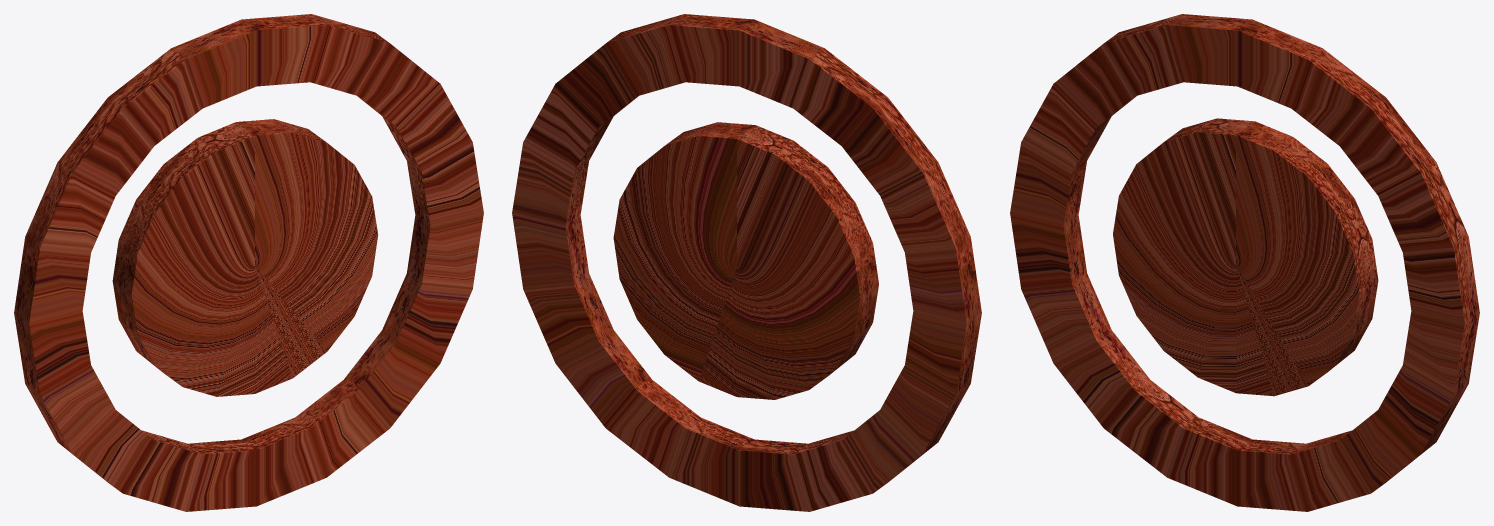
The model's file is wheelHub.fbx.
3 renders of one model, left to right at view 1: azimuth 30°, elevation 25°; view 2: azimuth 150°, elevation 25°; view 3: azimuth 330°, elevation 25°, orthographic.
Visible parts, largest first — view 1: wheelHub; view 2: wheelHub; view 3: wheelHub.
Part boxes in pixels (left/top/right/bottom): wheelHub: left=14, top=14, right=483, bottom=511; wheelHub: left=512, top=14, right=981, bottom=511; wheelHub: left=1010, top=14, right=1479, bottom=511.
Bounding box in the file's own units: 0.2703 × 0.2703 × 0.0197.
